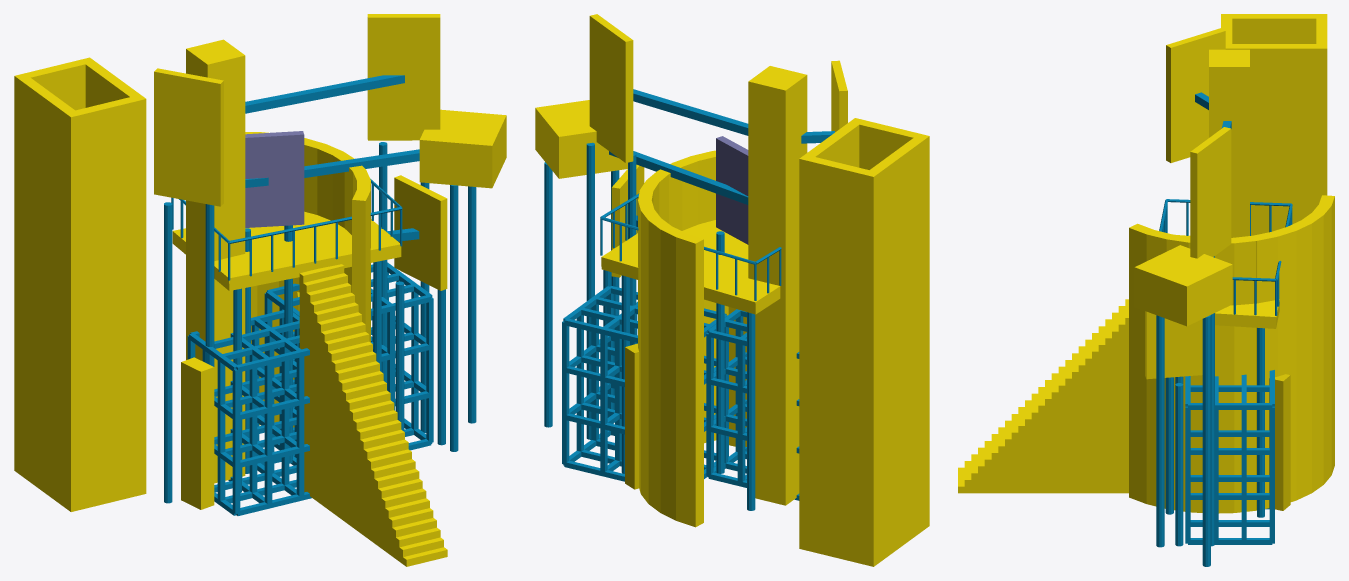
Rendered from folie_tag_097.glb.
3 views of the same model, side by side, from view 1: azimuth 30°, elevation 25°; view 2: azimuth 150°, elevation 25°; view 3: azimuth 270°, elevation 25° (orthographic). The views are drawn at different scales.
Visible parts, largest first — view 1: folie_tag_097_00_tower, folie_tag_097_stairs, folie_tag_097_line, folie_tag_097_03_cage, folie_tag_097_core, folie_tag_097_06_panel, folie_tag_097_05_panel, folie_tag_097_01_curve, folie_tag_097_02_plate, folie_tag_097_04_cage, folie_tag_097_09_block, folie_tag_097_08_panel (+2 smaller); view 2: folie_tag_097_00_tower, folie_tag_097_01_curve, folie_tag_097_core, folie_tag_097_line, folie_tag_097_04_cage, folie_tag_097_05_panel, folie_tag_097_03_cage, folie_tag_097_02_plate, folie_tag_097_09_block, folie_tag_097_08_panel, folie_tag_097_07_fin, folie_tag_097_11_panel (+2 smaller); view 3: folie_tag_097_01_curve, folie_tag_097_stairs, folie_tag_097_00_tower, folie_tag_097_line, folie_tag_097_04_cage, folie_tag_097_09_block, folie_tag_097_core, folie_tag_097_06_panel, folie_tag_097_05_panel, folie_tag_097_11_panel, folie_tag_097_07_fin, folie_tag_097_02_plate.
Part boxes in pixels (box(x1,y1,x2,y2)): folie_tag_097_00_tower: box(14, 57, 146, 511); folie_tag_097_stairs: box(299, 264, 447, 566); folie_tag_097_line: box(164, 75, 476, 503); folie_tag_097_03_cage: box(187, 310, 311, 515); folie_tag_097_core: box(186, 39, 245, 483); folie_tag_097_06_panel: box(154, 68, 223, 206); folie_tag_097_05_panel: box(367, 14, 440, 140); folie_tag_097_01_curve: box(245, 132, 370, 427); folie_tag_097_02_plate: box(172, 211, 401, 290); folie_tag_097_04_cage: box(264, 262, 433, 457); folie_tag_097_09_block: box(419, 109, 506, 188); folie_tag_097_08_panel: box(245, 131, 304, 227); folie_tag_097_00_tower: box(799, 118, 929, 566); folie_tag_097_01_curve: box(638, 150, 728, 527); folie_tag_097_core: box(748, 66, 807, 505); folie_tag_097_line: box(544, 89, 834, 510); folie_tag_097_04_cage: box(562, 286, 728, 481); folie_tag_097_05_panel: box(589, 14, 633, 162); folie_tag_097_03_cage: box(706, 309, 799, 500); folie_tag_097_02_plate: box(601, 220, 780, 314); folie_tag_097_09_block: box(535, 100, 627, 178); folie_tag_097_08_panel: box(716, 136, 748, 244); folie_tag_097_07_fin: box(625, 343, 639, 489); folie_tag_097_11_panel: box(611, 164, 644, 277); folie_tag_097_01_curve: box(1129, 195, 1334, 513); folie_tag_097_stairs: box(958, 299, 1128, 493); folie_tag_097_00_tower: box(1221, 14, 1327, 235); folie_tag_097_line: box(1156, 92, 1292, 566); folie_tag_097_04_cage: box(1185, 370, 1274, 544); folie_tag_097_09_block: box(1134, 245, 1232, 326); folie_tag_097_core: box(1209, 49, 1249, 237); folie_tag_097_06_panel: box(1166, 28, 1225, 162); folie_tag_097_05_panel: box(1190, 127, 1231, 258); folie_tag_097_11_panel: box(1145, 311, 1202, 379); folie_tag_097_07_fin: box(1269, 374, 1290, 510); folie_tag_097_02_plate: box(1178, 235, 1279, 328).
Bounding box in the file's own units: 12.17 × 11.78 × 10.13.
